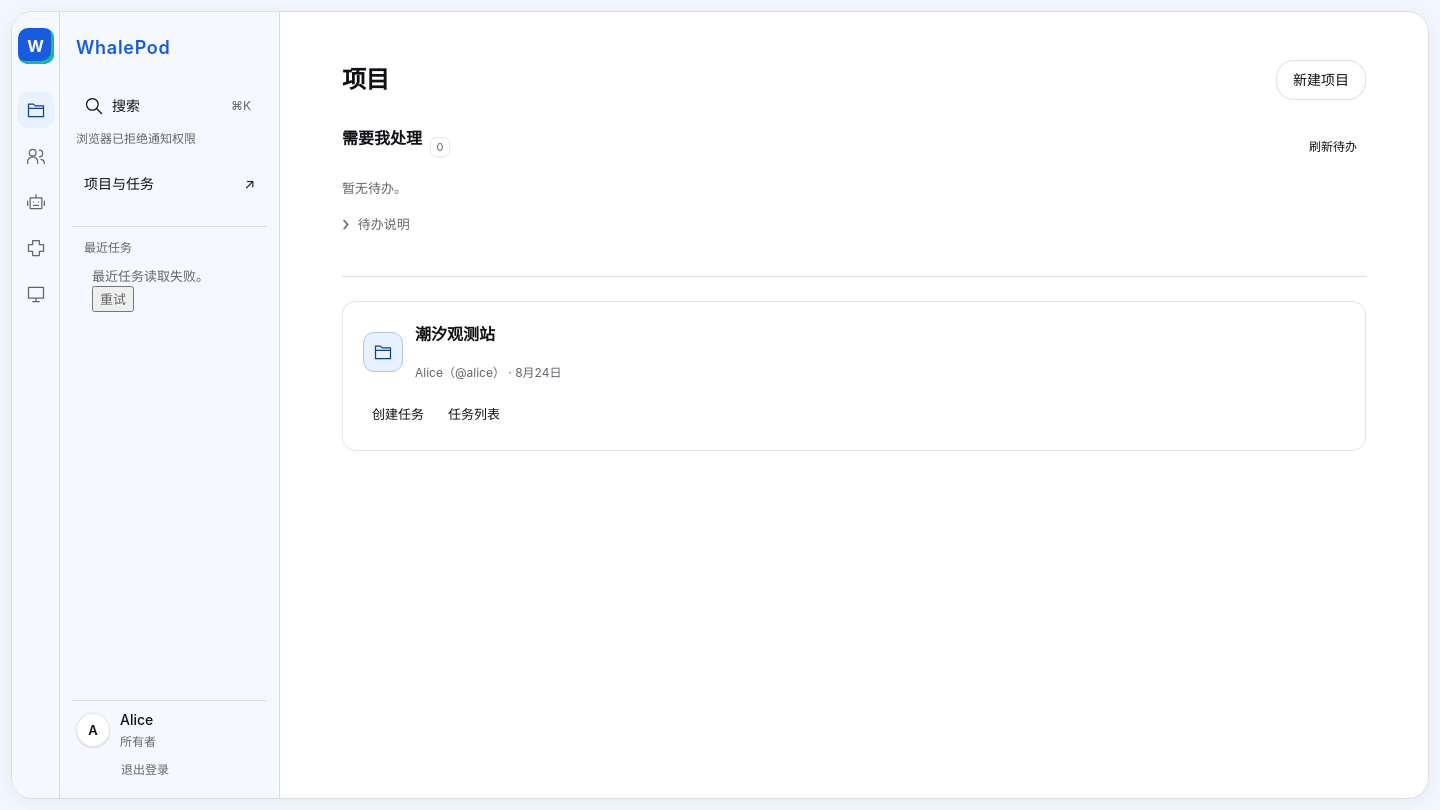
Test: #348 创建任务失败：候选失效翻成人话 + 引导 › 评审 P1：Agent 被拒后关掉「创建后立即执行」→ 阻塞立即解除（该字段已退出请求）
Click the button "创建任务" at coordinates (398, 414), box [363,398,433,430]
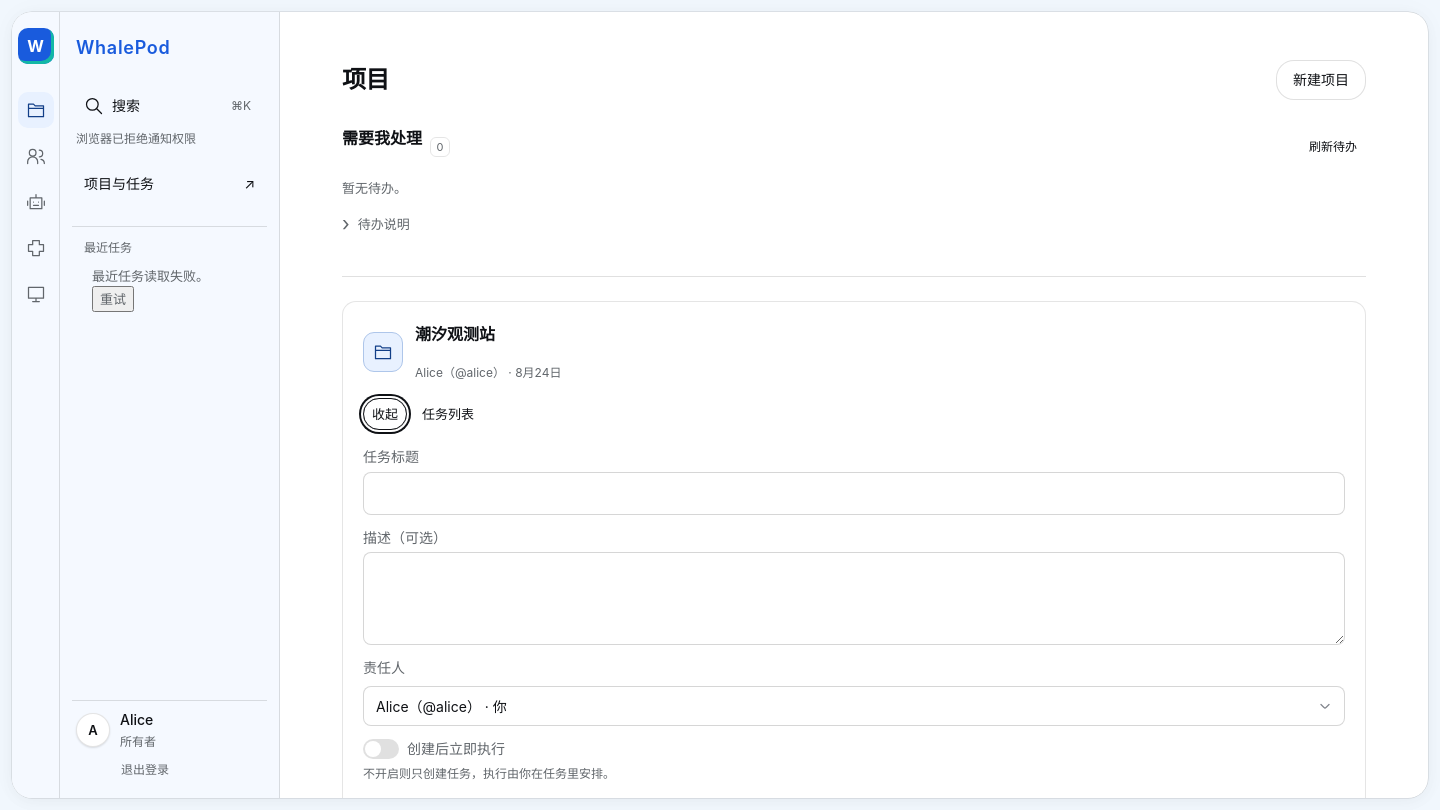
Type "先建任务，不执行" into the field labelled "任务标题" at coordinates (854, 493), box [363,472,1345,515]
Click the switch named "创建后立即执行" at coordinates (381, 749), box [363,739,399,759]
(page scrolled)
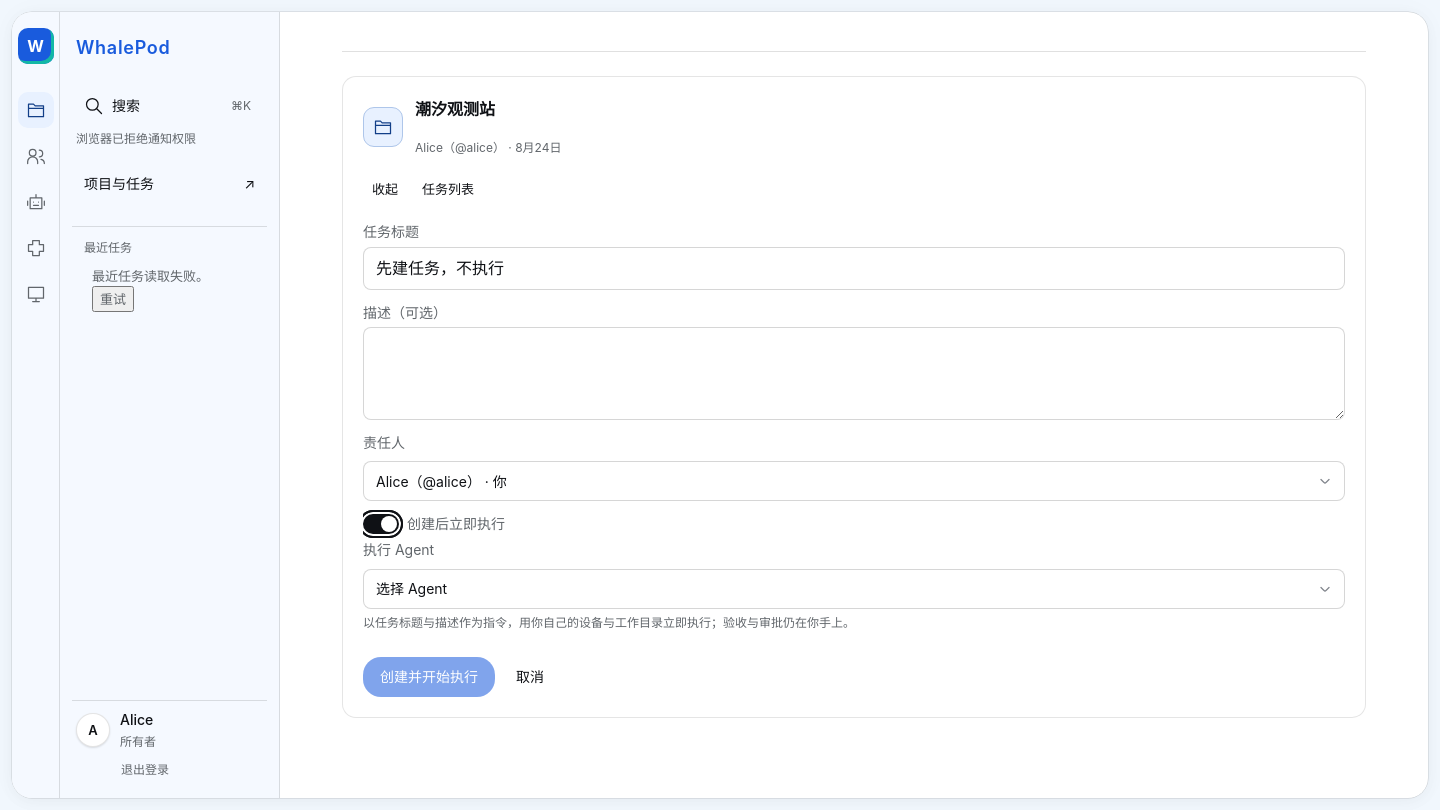
Click the button named "执行 Agent" at coordinates (412, 588), box [363,569,1345,609]
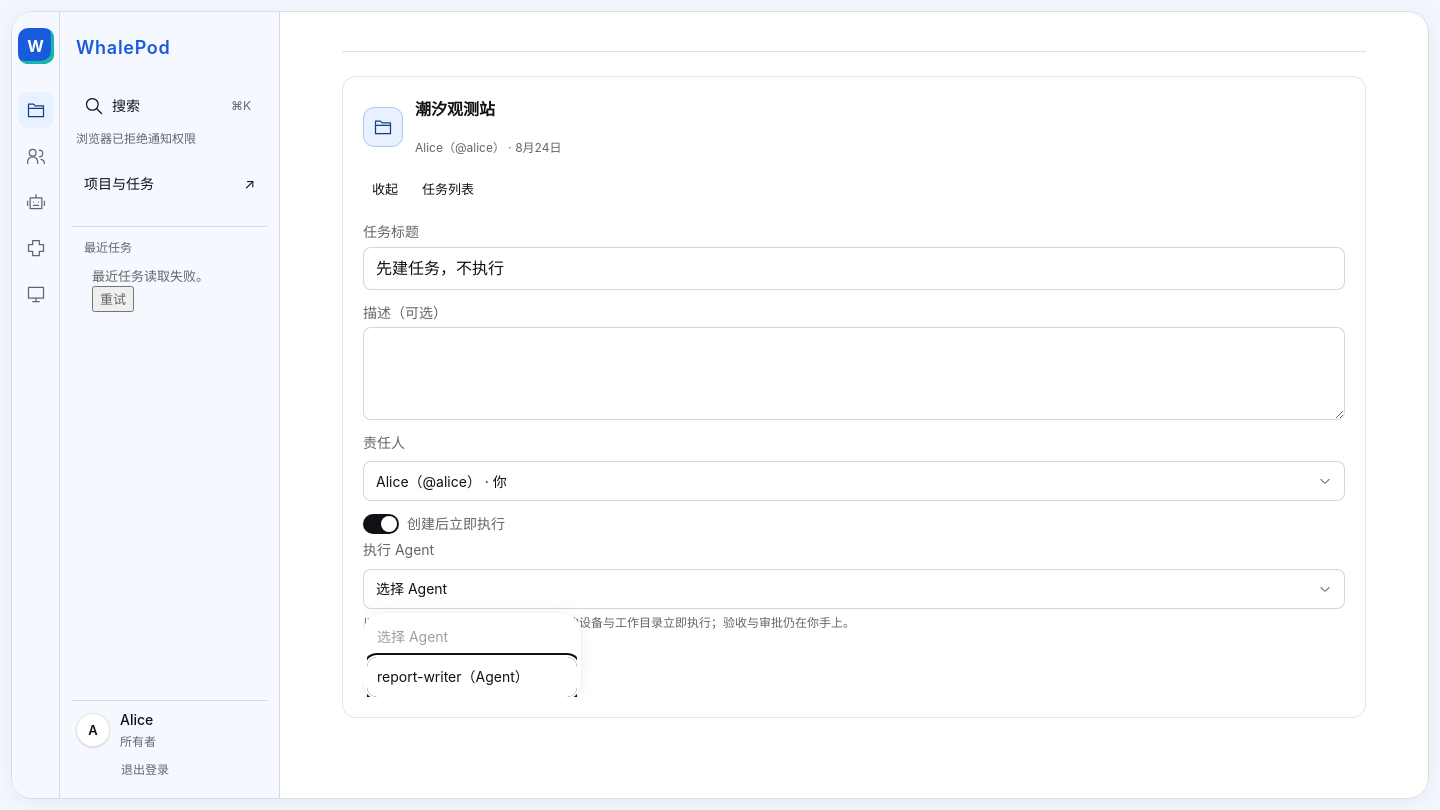
Click the menu item "report-writer（Agent）" at coordinates (472, 677), box [367,657,577,697]
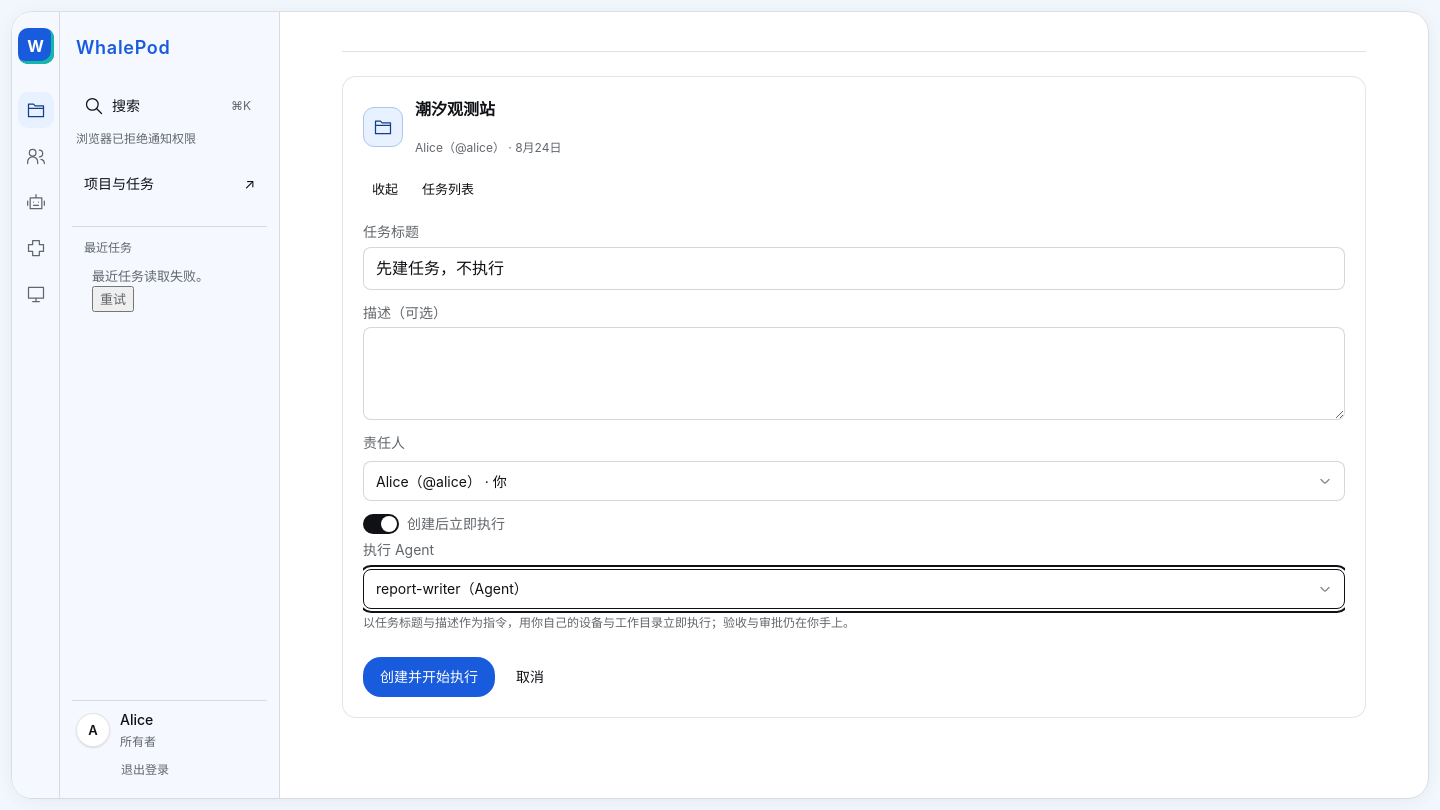
Click the button "创建并开始执行" at coordinates (429, 677), box [363,657,495,697]
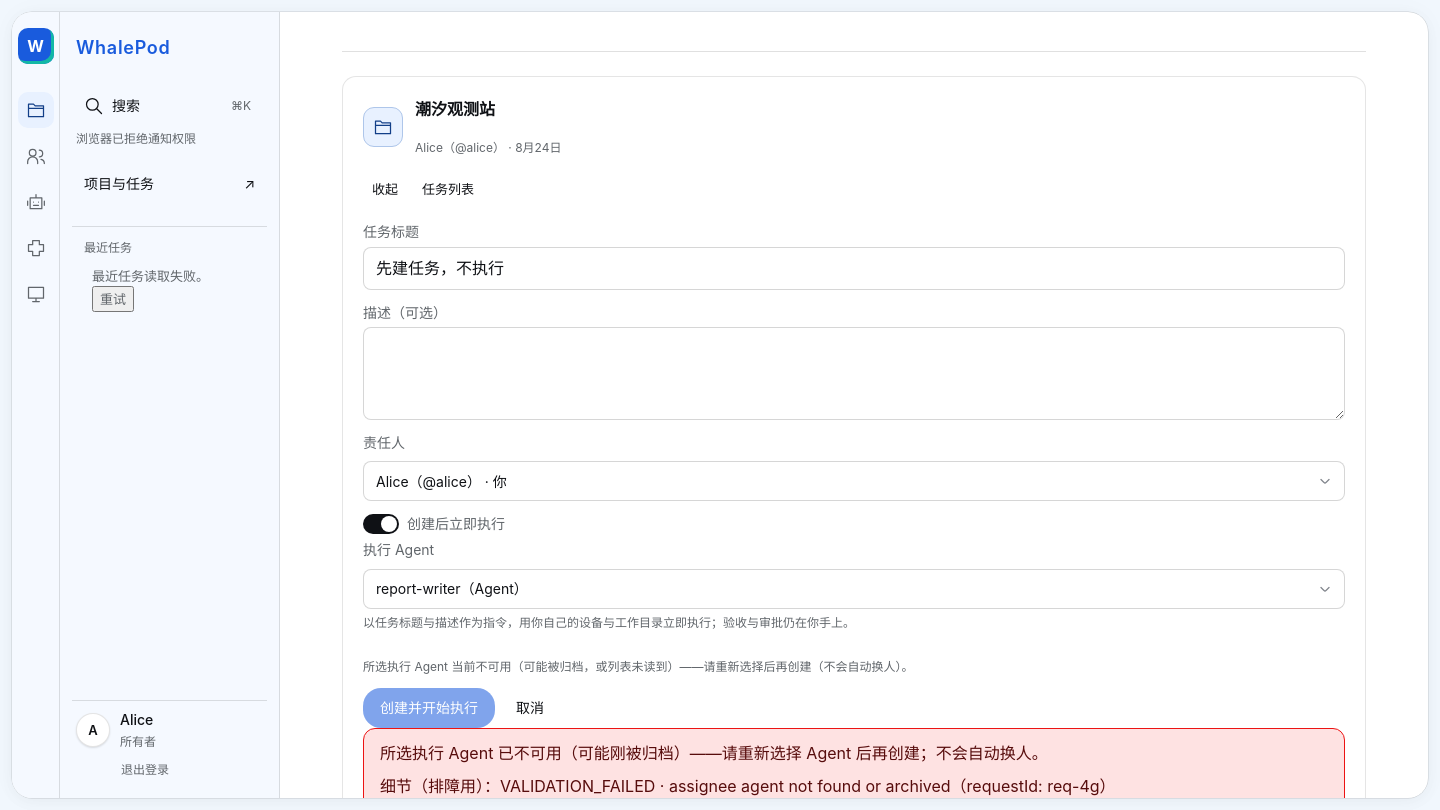
Check: the message "所选执行 Agent 当前不可用（可能被归档，或列表未读到）——请重新选择后再创建（不会自动换人）。" is shown, box [363,659,913,674]
Click the switch named "创建后立即执行" at coordinates (381, 524), box [363,514,399,534]
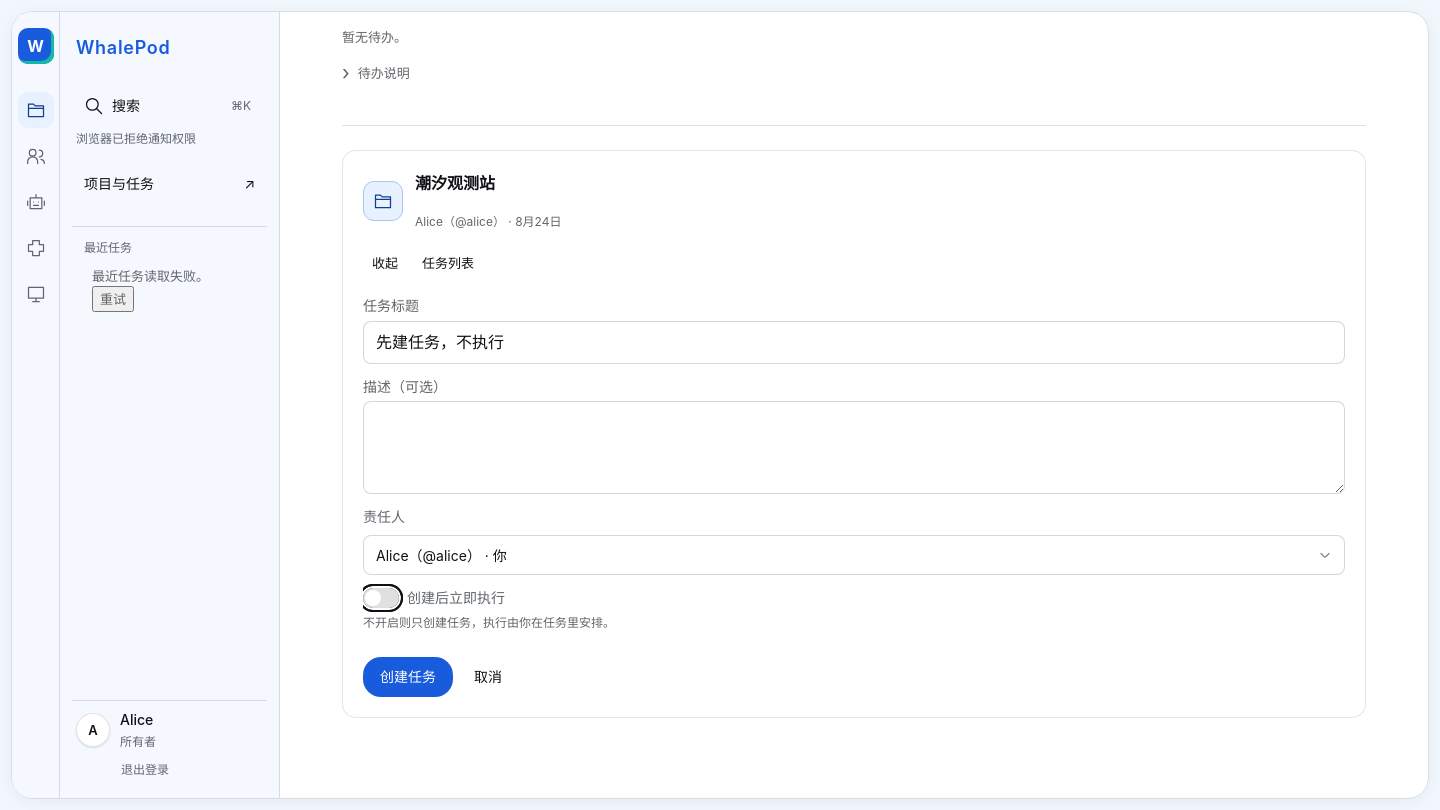
Check: the message with test id "selection-unavailable-hint" is gone
Check: the button "创建任务" is enabled, box [363,657,453,697]
Check: the text with test id "error-guidance" is gone
